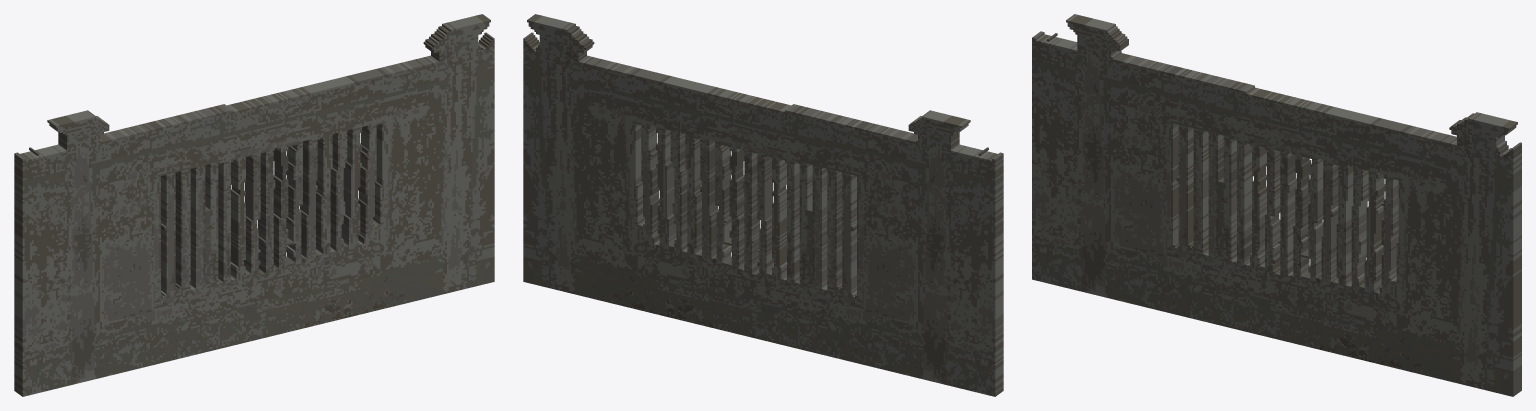
The model's file is grayPhanTuWall2.obj.
3 renders of one model, left to right at view 1: azimuth 30°, elevation 25°; view 2: azimuth 150°, elevation 25°; view 3: azimuth 330°, elevation 25°, orthographic.
Bounding box in the file's own units: 25.6 × 13.6 × 0.8.
